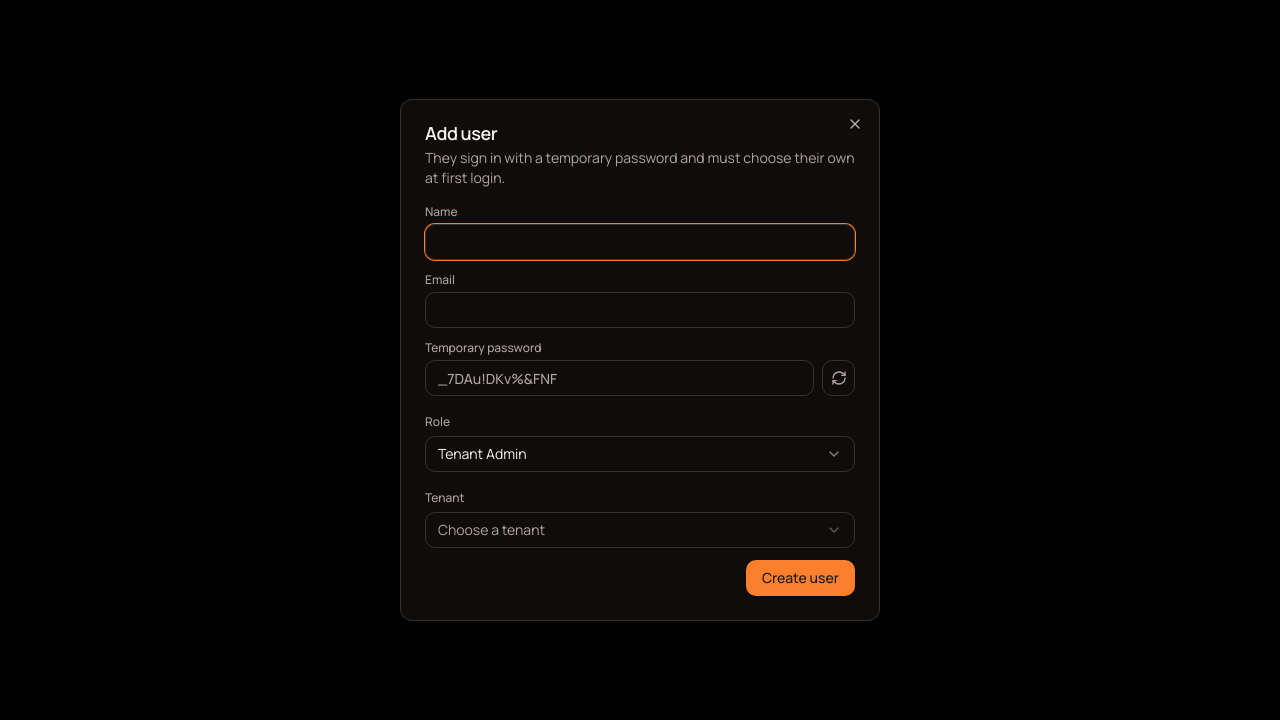
Test: Add User dialog › super admin: suspended tenants are not offered
Click the dropdown with test id "tenant-select".
click(492, 530)  # box [425, 512, 855, 548]
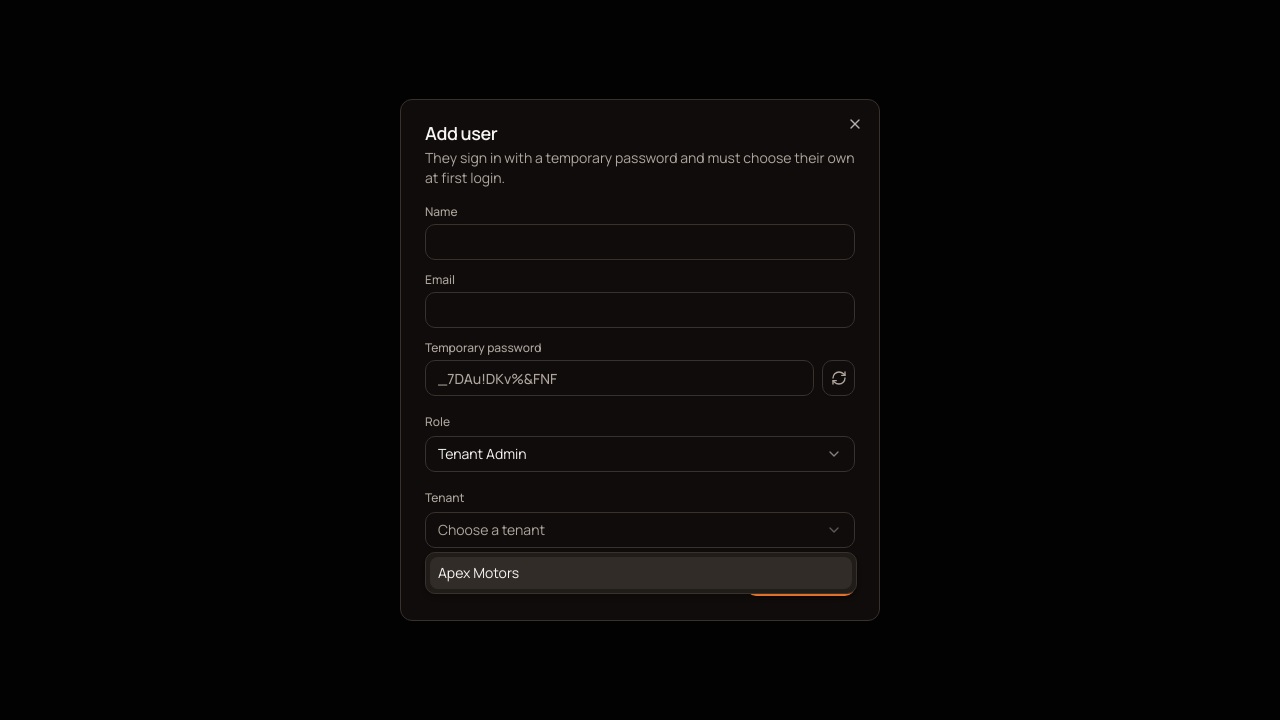
Expected: the options read "Apex Motors", in this order, [430, 557, 852, 589]
